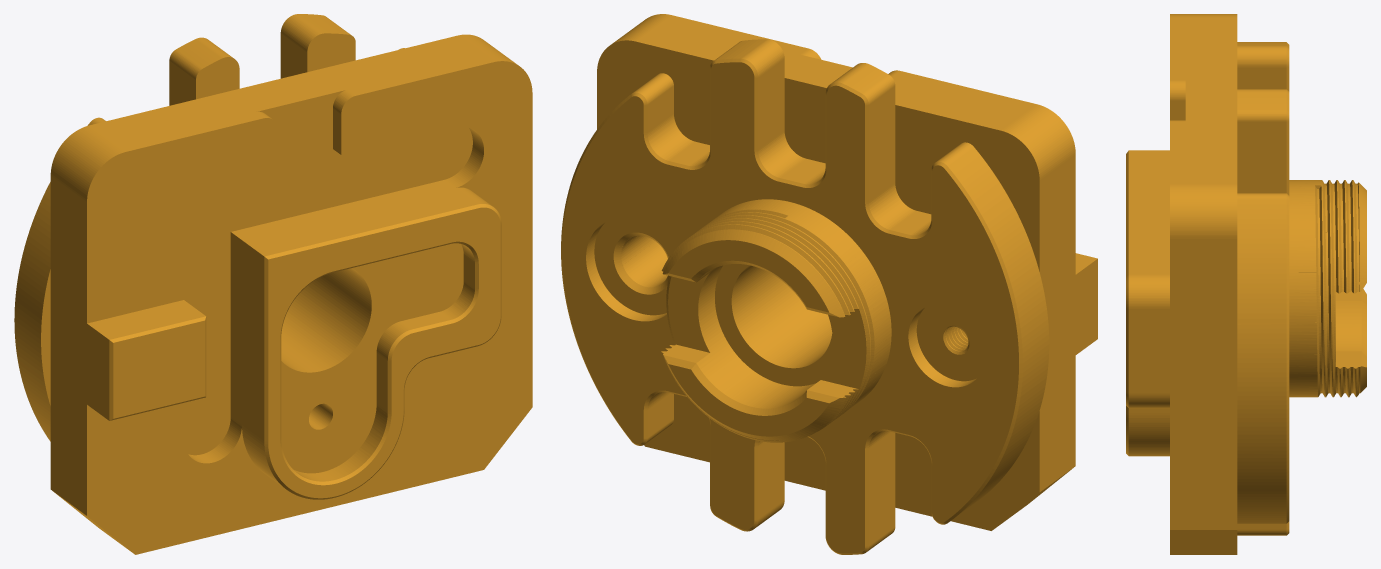
3 views of the same model, side by side, from view 1: azimuth 30°, elevation 25°; view 2: azimuth 150°, elevation 25°; view 3: azimuth 270°, elevation 25° (orthographic). The views are drawn at different scales.
Bounding box in the file's own units: 96 × 93.75 × 46.5.
